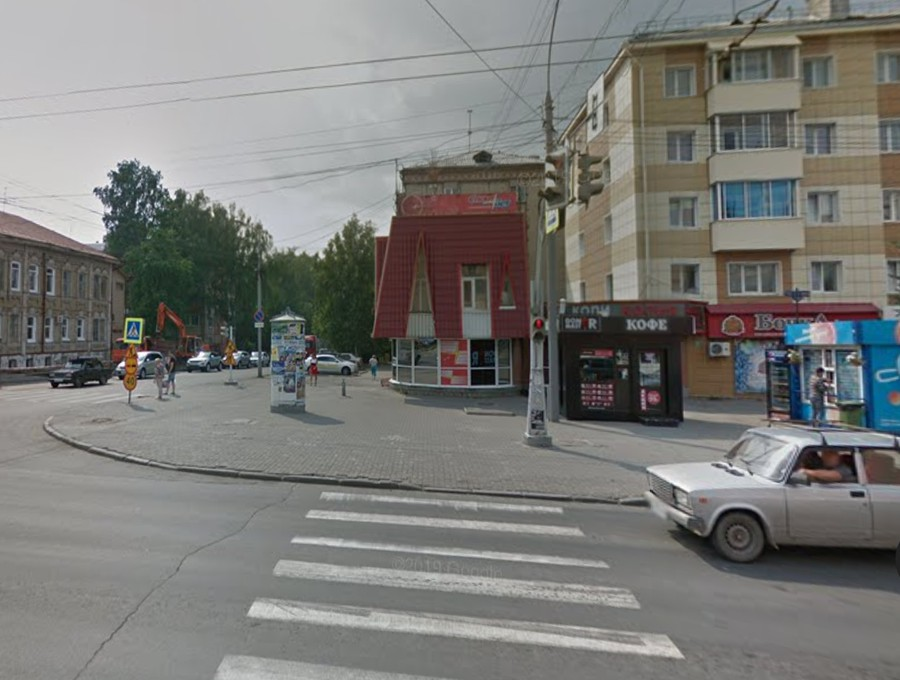Traffic Light-red: (530, 312, 547, 345)
